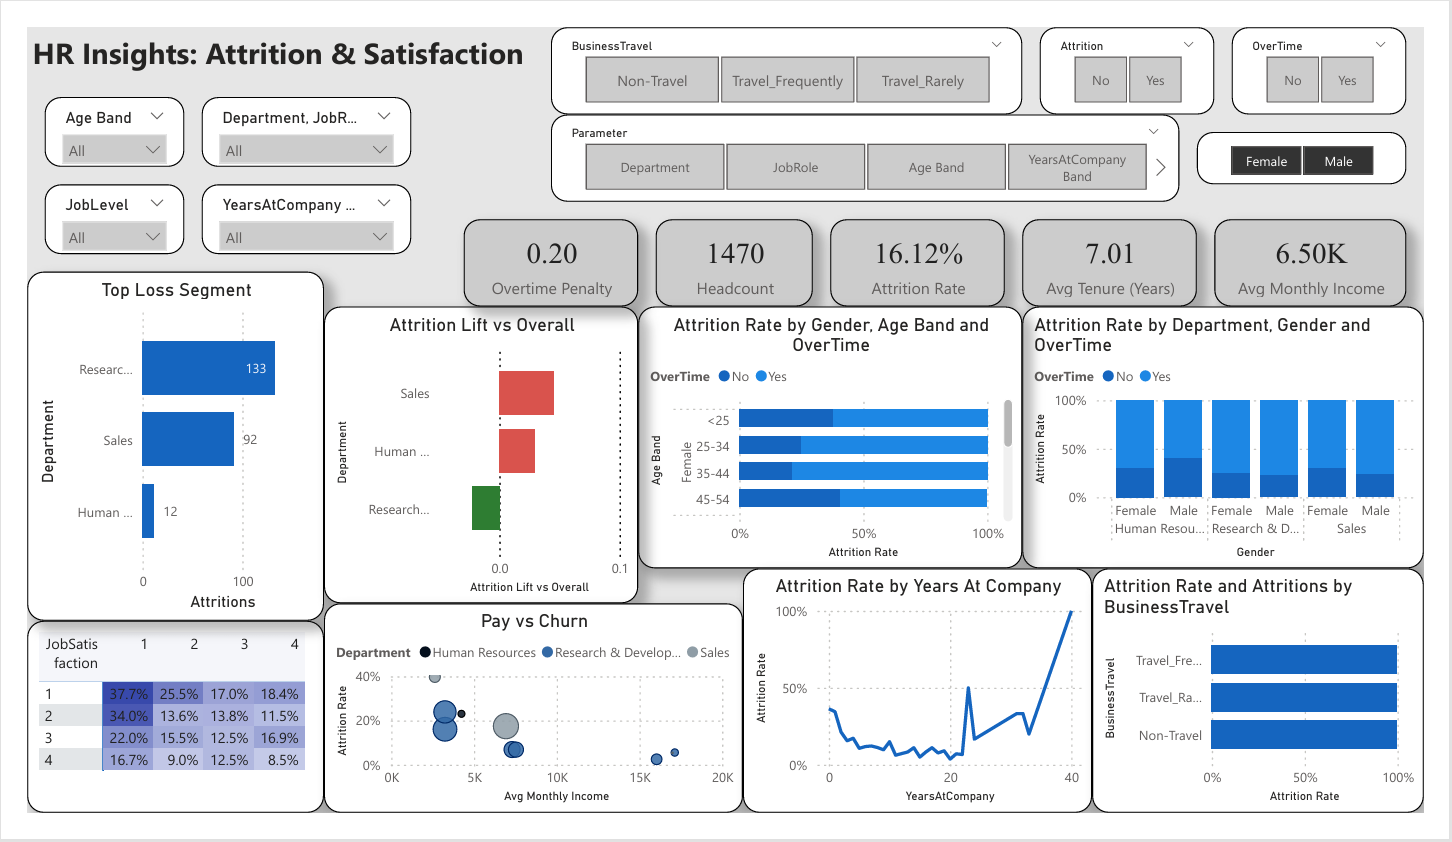

The dashboard page shown, as its layout file describes it:
{"tool":"powerbi","page":{"name":"Page 1","canvas":[1280,720],"ordinal":0},"visuals":[{"type":"card","fields":{"Values":["HR Employee Dataset.Headcount"]},"box":[560,160,160,96],"z":0},{"type":"card","fields":{"Values":["HR Employee Dataset.Attrition Rate"]},"box":[720,160,176,96],"z":1000},{"type":"card","fields":{"Values":["HR Employee Dataset.Avg Tenure (Years)"]},"box":[896,160,176,96],"z":2000},{"type":"card","fields":{"Values":["HR Employee Dataset.Avg Monthly Income"]},"box":[1072,160,192,96],"z":3000},{"type":"hundredPercentStackedColumnChart","fields":{"Category":["HR Employee Dataset.Department","HR Employee Dataset.Gender"],"Y":["HR Employee Dataset.Attrition Rate"],"Series":["HR Employee Dataset.OverTime"]},"box":[912,256,352,240],"z":4000},{"type":"hundredPercentStackedBarChart","fields":{"Category":["HR Employee Dataset.Gender","HR Employee Dataset.Age Band"],"Y":["HR Employee Dataset.Attrition Rate"],"Series":["HR Employee Dataset.OverTime"]},"box":[560,256,336,240],"z":5000},{"type":"pivotTable","fields":{"Rows":["HR Employee Dataset.JobSatisfaction"],"Columns":["HR Employee Dataset.EnvironmentSatisfaction"],"Values":["HR Employee Dataset.Attrition Rate"]},"box":[0,544,240,160],"z":6000},{"type":"slicer","fields":{"Values":["HR Employee Dataset.Attrition"]},"box":[944,0,160,80],"z":7000},{"type":"clusteredBarChart","title":"Top Loss Segment","fields":{"Category":["HR Employee Dataset.JobRole"],"Y":["HR Employee Dataset.Attritions"]},"box":[16,240,240,288],"z":8000},{"type":"clusteredBarChart","title":"Attrition Lift vs Overall ","fields":{"Category":["HR Employee Dataset.JobRole"],"Y":["HR Employee Dataset.Attrition Lift vs Overall"]},"box":[272,256,272,272],"z":9000},{"type":"scatterChart","title":"Pay vs Churn","fields":{"X":["HR Employee Dataset.Avg Monthly Income"],"Y":["HR Employee Dataset.Attrition Rate"],"Category":["HR Employee Dataset.JobRole"],"Series":["HR Employee Dataset.Department"],"Size":["HR Employee Dataset.Headcount"]},"box":[256,528,400,192],"z":10000},{"type":"textbox","box":[0,0,496,64],"z":11000},{"type":"slicer","fields":{"Values":["HR Employee Dataset.Department","HR Employee Dataset.JobRole"]},"box":[160,64,192,80],"z":12000},{"type":"slicer","fields":{"Values":["HR Employee Dataset.YearsAtCompany Band"]},"box":[160,144,208,64],"z":13000},{"type":"slicer","fields":{"Values":["HR Employee Dataset.OverTime"]},"box":[1104,0,160,80],"z":14000},{"type":"slicer","fields":{"Values":["HR Employee Dataset.Gender"]},"box":[1072,80,192,48],"z":15000},{"type":"slicer","fields":{"Values":["HR Employee Dataset.Age Band"]},"box":[16,64,128,64],"z":16000},{"type":"slicer","fields":{"Values":["HR Employee Dataset.BusinessTravel"]},"box":[512,0,432,80],"z":17000},{"type":"slicer","fields":{"Values":["HR Employee Dataset.JobLevel"]},"box":[16,144,128,64],"z":18000},{"type":"slicer","fields":{"Values":["Parameter.Parameter"]},"box":[496,80,576,80],"z":19000},{"type":"lineChart","title":"Attrition Rate by Years At Company","fields":{"Y":["HR Employee Dataset.Attrition Rate"],"Category":["HR Employee Dataset.YearsAtCompany"]},"box":[672,496,304,224],"z":20000},{"type":"hundredPercentStackedBarChart","fields":{"Category":["HR Employee Dataset.BusinessTravel"],"Y":["HR Employee Dataset.Attrition Rate"]},"box":[992,496,288,224],"z":21000},{"type":"card","fields":{"Values":["HR Employee Dataset.Overtime Penalty"]},"box":[384,160,176,96],"z":22000}]}

Visuals, with their boxes in screenshot pixels (x1, y1, x2, y2), scaled from the page's 1280x720 canvas onto the 1452x842 screenshot:
card - HR Employee Dataset.Headcount: (x1=635, y1=187, x2=817, y2=299)
card - HR Employee Dataset.Attrition Rate: (x1=817, y1=187, x2=1016, y2=299)
card - HR Employee Dataset.Avg Tenure (Years): (x1=1016, y1=187, x2=1216, y2=299)
card - HR Employee Dataset.Avg Monthly Income: (x1=1216, y1=187, x2=1434, y2=299)
hundredPercentStackedColumnChart - HR Employee Dataset.Department x HR Employee Dataset.Gender: (x1=1035, y1=299, x2=1434, y2=580)
hundredPercentStackedBarChart - HR Employee Dataset.Gender x HR Employee Dataset.Age Band: (x1=635, y1=299, x2=1016, y2=580)
pivotTable - HR Employee Dataset.JobSatisfaction x HR Employee Dataset.EnvironmentSatisfaction: (x1=0, y1=636, x2=272, y2=823)
slicer - HR Employee Dataset.Attrition: (x1=1071, y1=0, x2=1252, y2=94)
"Top Loss Segment" clusteredBarChart: (x1=18, y1=281, x2=290, y2=617)
"Attrition Lift vs Overall " clusteredBarChart: (x1=309, y1=299, x2=617, y2=617)
"Pay vs Churn" scatterChart: (x1=290, y1=617, x2=744, y2=841)
textbox: (x1=0, y1=0, x2=563, y2=75)
slicer - HR Employee Dataset.Department x HR Employee Dataset.JobRole: (x1=182, y1=75, x2=399, y2=168)
slicer - HR Employee Dataset.YearsAtCompany Band: (x1=182, y1=168, x2=417, y2=243)
slicer - HR Employee Dataset.OverTime: (x1=1252, y1=0, x2=1434, y2=94)
slicer - HR Employee Dataset.Gender: (x1=1216, y1=94, x2=1434, y2=150)
slicer - HR Employee Dataset.Age Band: (x1=18, y1=75, x2=163, y2=150)
slicer - HR Employee Dataset.BusinessTravel: (x1=581, y1=0, x2=1071, y2=94)
slicer - HR Employee Dataset.JobLevel: (x1=18, y1=168, x2=163, y2=243)
slicer - Parameter.Parameter: (x1=563, y1=94, x2=1216, y2=187)
"Attrition Rate by Years At Company" lineChart: (x1=762, y1=580, x2=1107, y2=841)
hundredPercentStackedBarChart - HR Employee Dataset.BusinessTravel x HR Employee Dataset.Attrition Rate: (x1=1125, y1=580, x2=1451, y2=841)
card - HR Employee Dataset.Overtime Penalty: (x1=436, y1=187, x2=635, y2=299)
